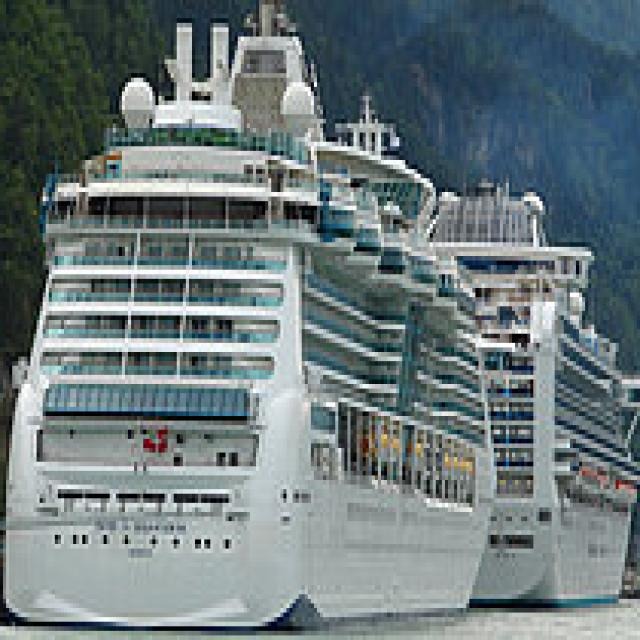Cruise: (3, 0, 521, 626), (427, 160, 640, 608)
